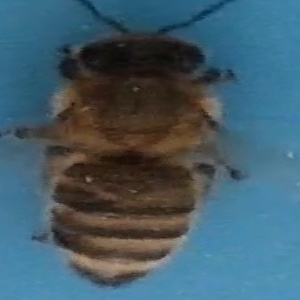bee: (38, 1, 260, 299)
